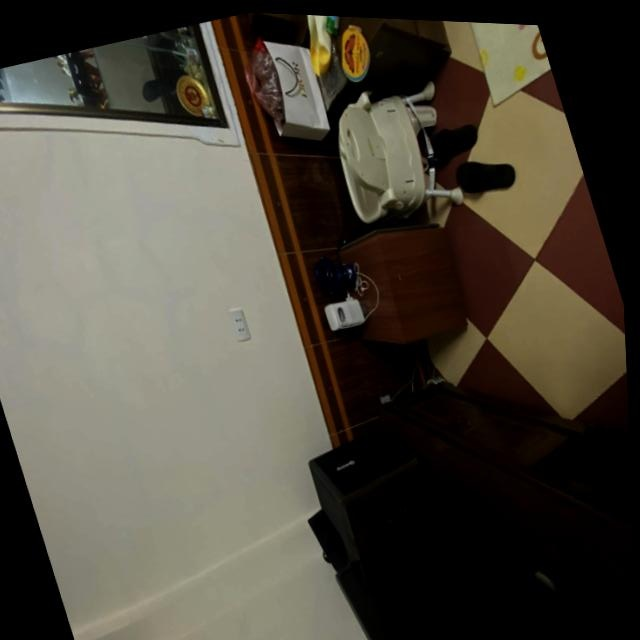outlet: (226, 308, 252, 344)
